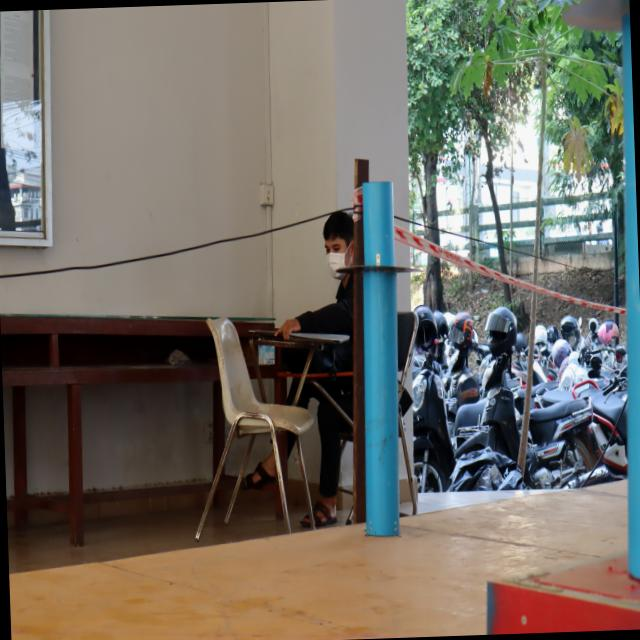pole: (328, 174, 432, 372)
